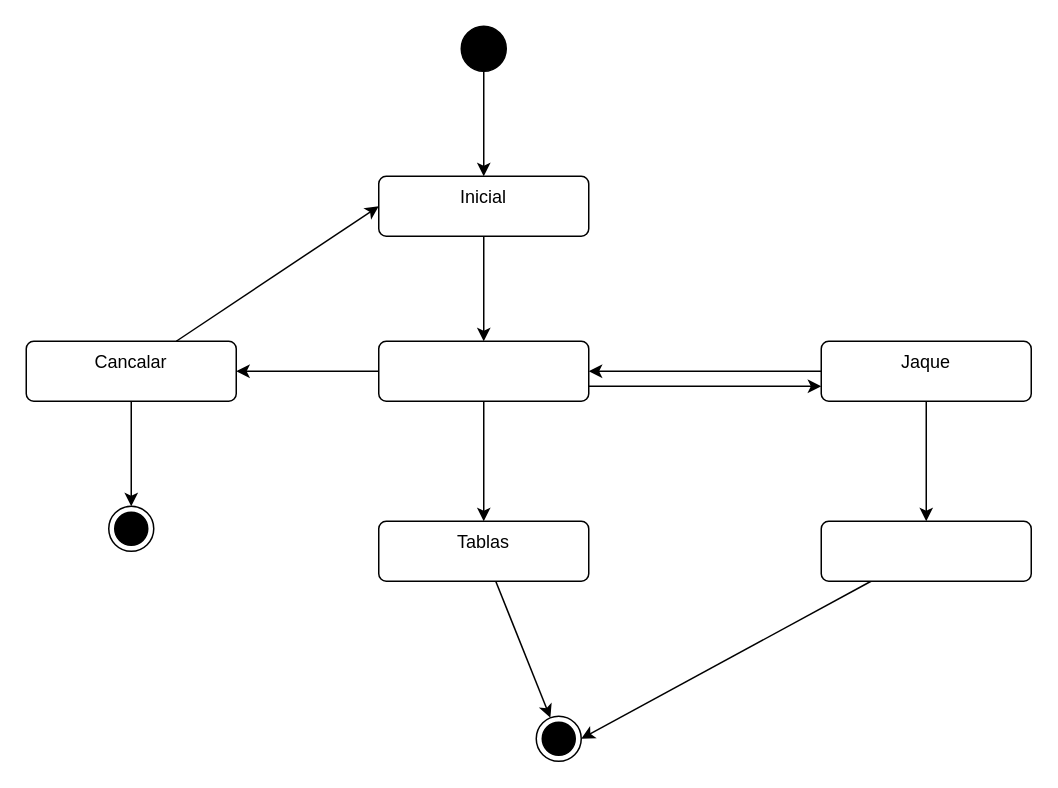
The diagram is 1058 pixels wide and 788 high, and some of its shapes have lost their labels. The shapes that lost their labels are listed below. From the top down, each one's box as (x1, y1, x2, y2) in pixels, then its label:
(377, 340, 589, 401): Jugando
(820, 520, 1031, 581): Jaque Mate
